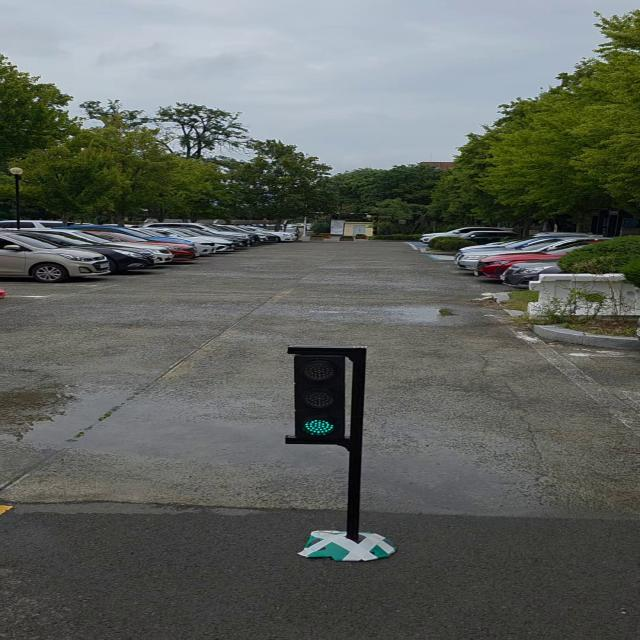green: (292, 352, 351, 445)
